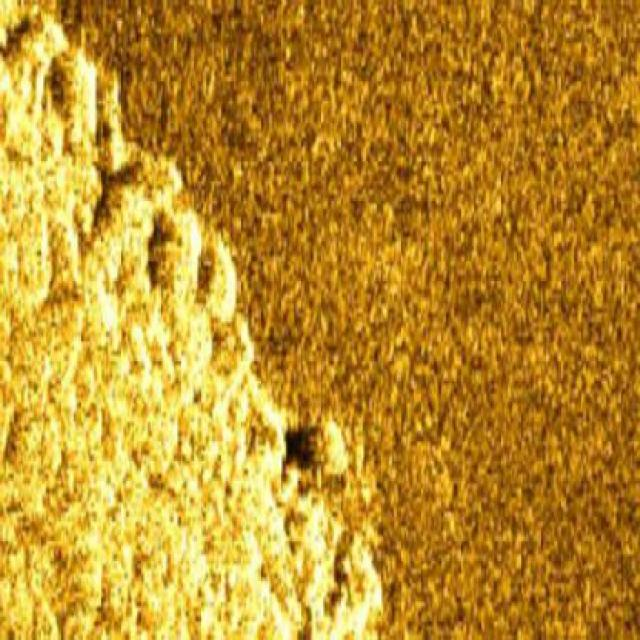bedrock group: (0, 0, 384, 638)
